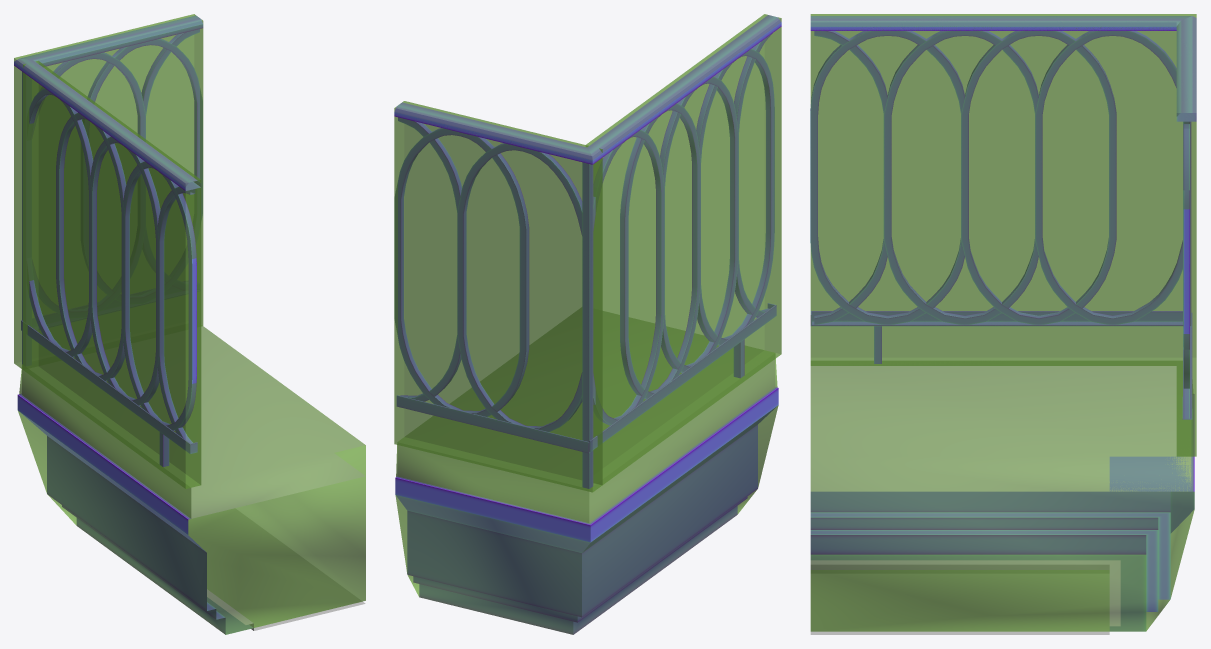
File: F_md_Balcony_L_end_03_m.fbx
3 renders of one model, left to right at view 1: azimuth 30°, elevation 25°; view 2: azimuth 150°, elevation 25°; view 3: azimuth 270°, elevation 25°, orthographic. The views are drawn at different scales.
Parts seen in each view (by area): view 1: F_md_Balcony_L_end_03_m_LOD0, F_md_Balcony_L_end_03_m_col_02, F_md_Balcony_L_end_03_m_col_03, F_md_Balcony_L_end_03_m_col_01; view 2: F_md_Balcony_L_end_03_m_LOD0, F_md_Balcony_L_end_03_m_col_01, F_md_Balcony_L_end_03_m_col_03, F_md_Balcony_L_end_03_m_col_02; view 3: F_md_Balcony_L_end_03_m_LOD0, F_md_Balcony_L_end_03_m_col_03, F_md_Balcony_L_end_03_m_col_02, F_md_Balcony_L_end_03_m_col_01.
Part boxes in pixels (left/top/right/bottom): F_md_Balcony_L_end_03_m_LOD0: left=14, top=15, right=365, bottom=634; F_md_Balcony_L_end_03_m_col_02: left=18, top=326, right=365, bottom=634; F_md_Balcony_L_end_03_m_col_03: left=23, top=60, right=201, bottom=488; F_md_Balcony_L_end_03_m_col_01: left=14, top=14, right=203, bottom=369; F_md_Balcony_L_end_03_m_LOD0: left=394, top=15, right=781, bottom=634; F_md_Balcony_L_end_03_m_col_01: left=394, top=101, right=602, bottom=492; F_md_Balcony_L_end_03_m_col_03: left=586, top=14, right=781, bottom=484; F_md_Balcony_L_end_03_m_col_02: left=395, top=351, right=778, bottom=634; F_md_Balcony_L_end_03_m_LOD0: left=810, top=16, right=1196, bottom=634; F_md_Balcony_L_end_03_m_col_03: left=810, top=14, right=1176, bottom=365; F_md_Balcony_L_end_03_m_col_02: left=810, top=361, right=1194, bottom=631; F_md_Balcony_L_end_03_m_col_01: left=1176, top=14, right=1196, bottom=456.
Size of what is drawn, in the model's own units: 61.6 by 149 by 100.
